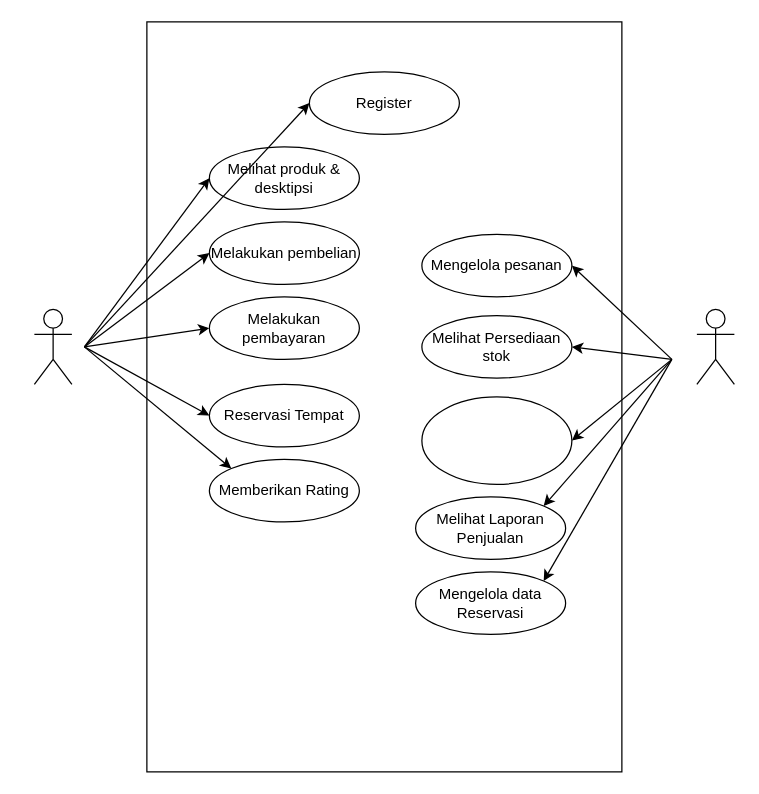
The diagram is 759 pixels wide and 794 high, and some of its shapes have lost their labels. Here are the shapes that lost their labels. From the top down, the box of each, then its label:
(33, 308, 72, 384): Kostumer
(696, 308, 734, 384): Admin
(421, 396, 572, 484): Menginput Laporan penjualan dan stok bahan baku
